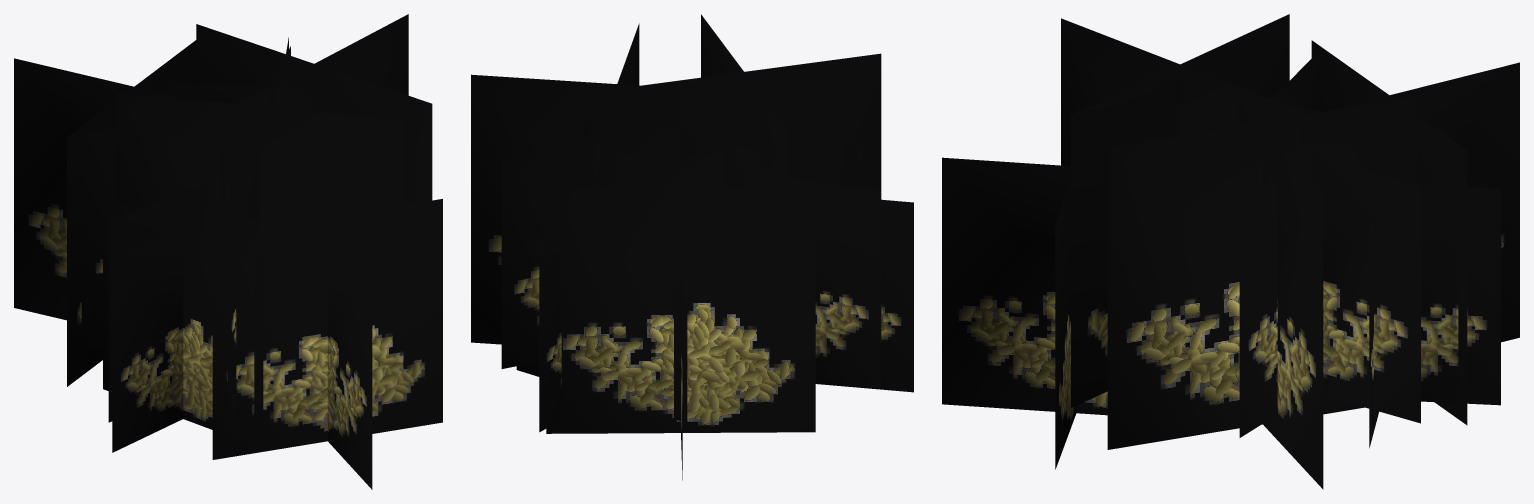
File: bush1_dry.fbx
The picture shows the model from 3 angles, left to right: view 1: azimuth 30°, elevation 25°; view 2: azimuth 150°, elevation 25°; view 3: azimuth 270°, elevation 25°; orthographic projection. The views are drawn at different scales.
Visible parts, largest first — view 1: bush1_dry; view 2: bush1_dry; view 3: bush1_dry.
Boxes of the visible parts, x1,y1,x2,y2 form: bush1_dry: (14,14,442,489); bush1_dry: (471,14,913,480); bush1_dry: (942,14,1519,489).
Size of the model in its own units: 1.82 by 1.42 by 2.2.
1 material, 1 textured.
